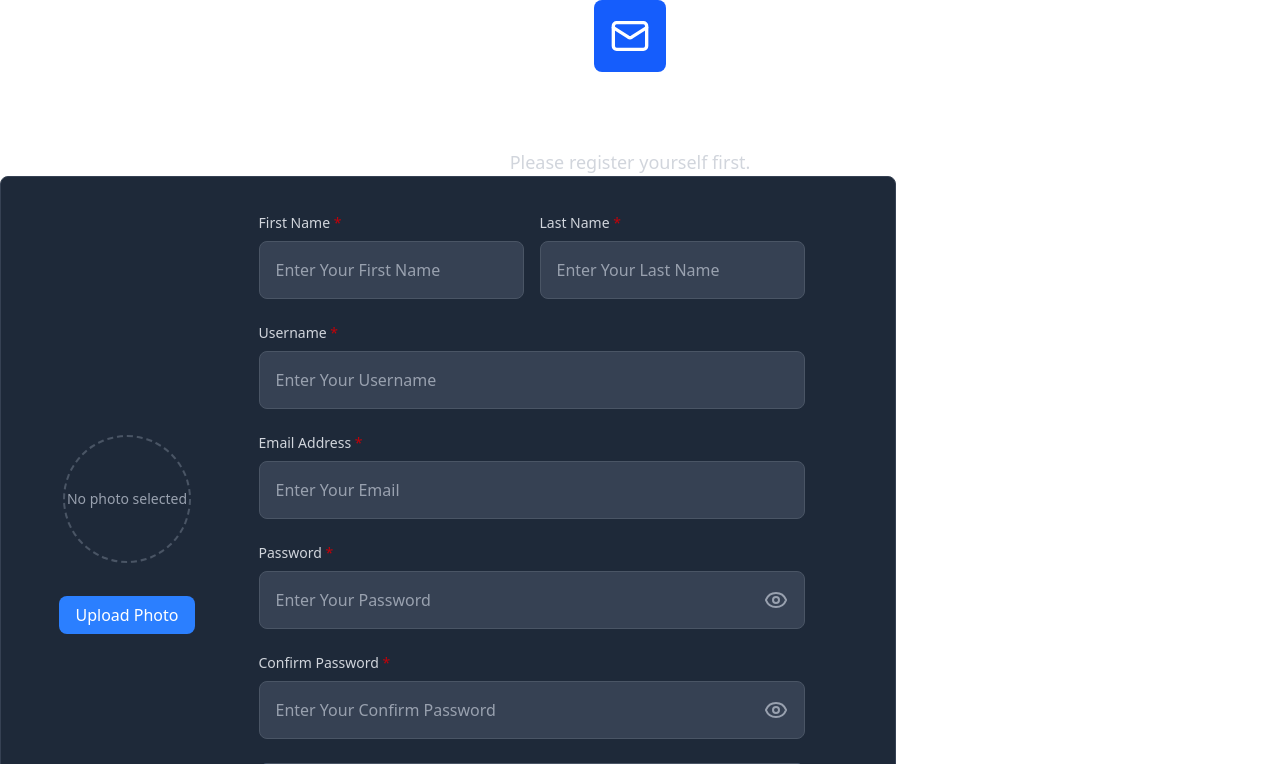
it: should show password mismatch error
Type "Password@123" into the password field with placeholder "Enter Your Password". click: {"x": 520, "y": 600}
box: [276,588,764,612]
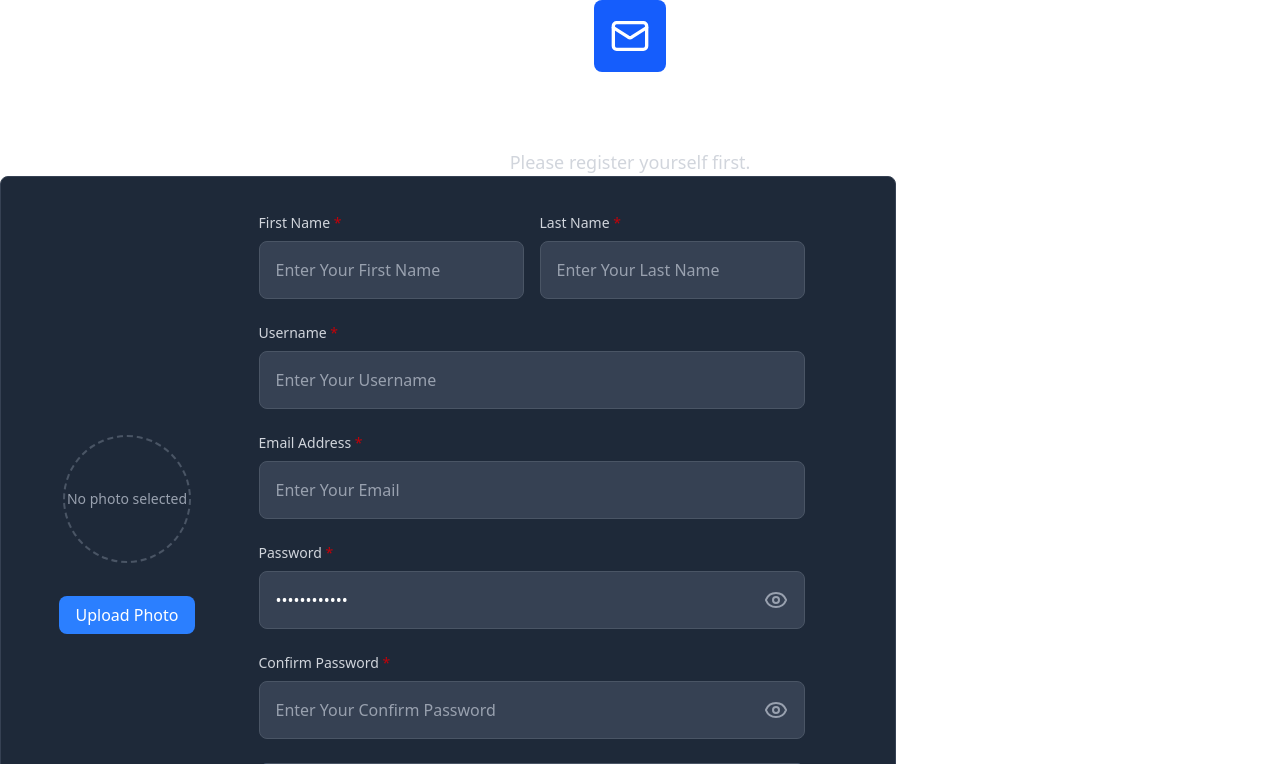
Type "Password@12" into the password field with placeholder "Enter Your Confirm Password". click: {"x": 520, "y": 710}
box: [276,698,764,722]
(page scrolled)
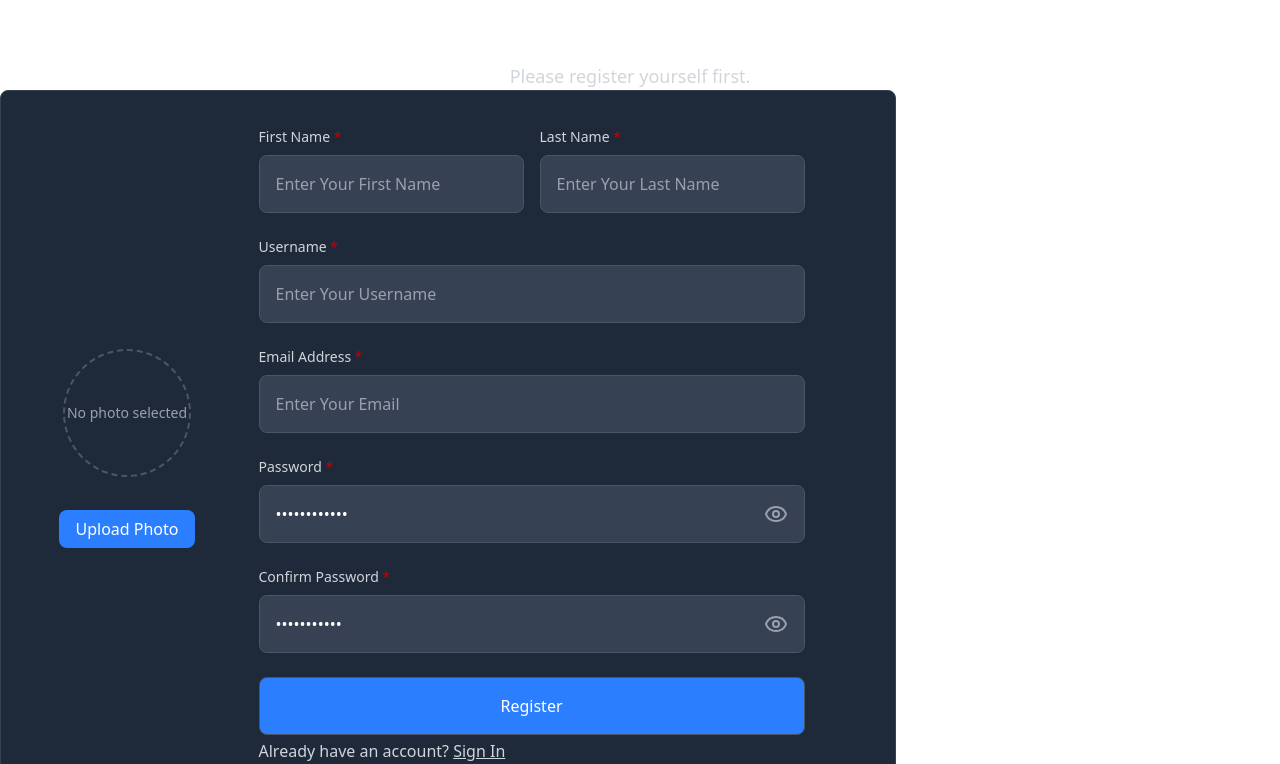
Click the button "Register". click: {"x": 532, "y": 706}
box: [258,677,804,735]
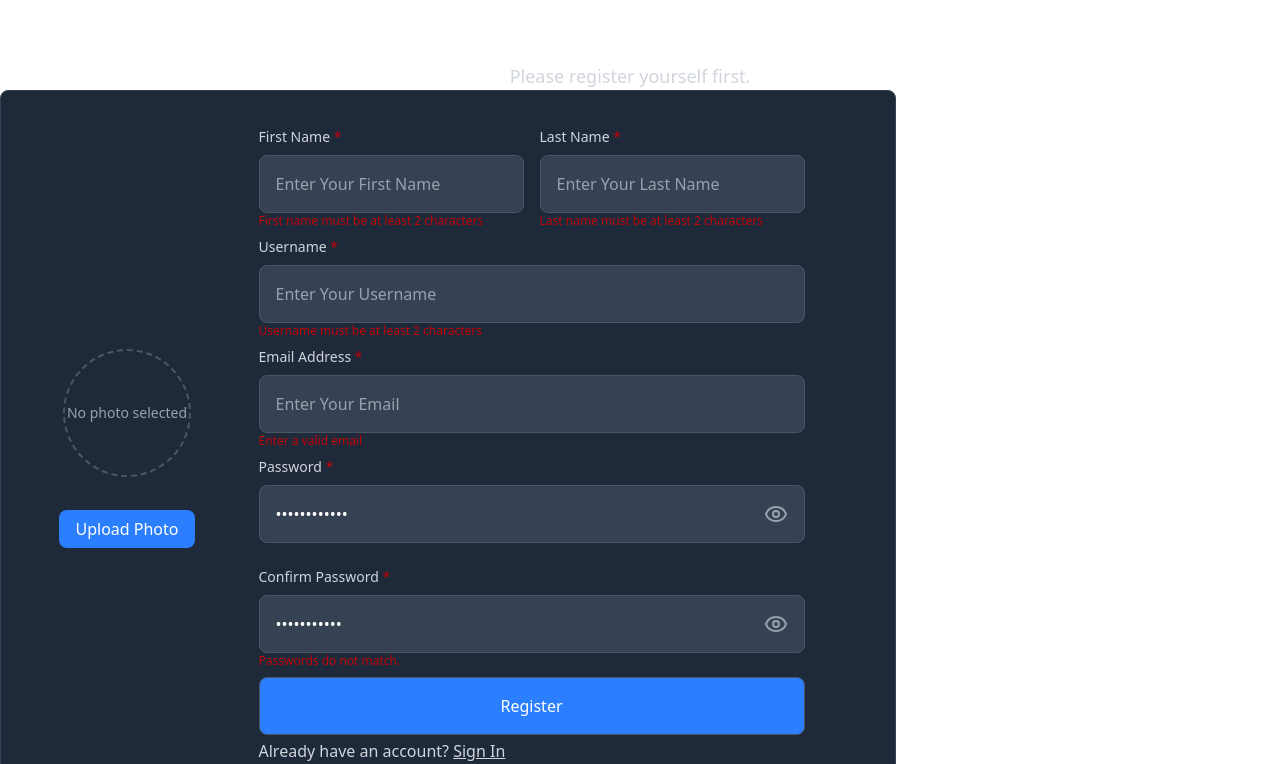
Check: the text "Passwords do not match." is shown, box [258,653,400,669]
